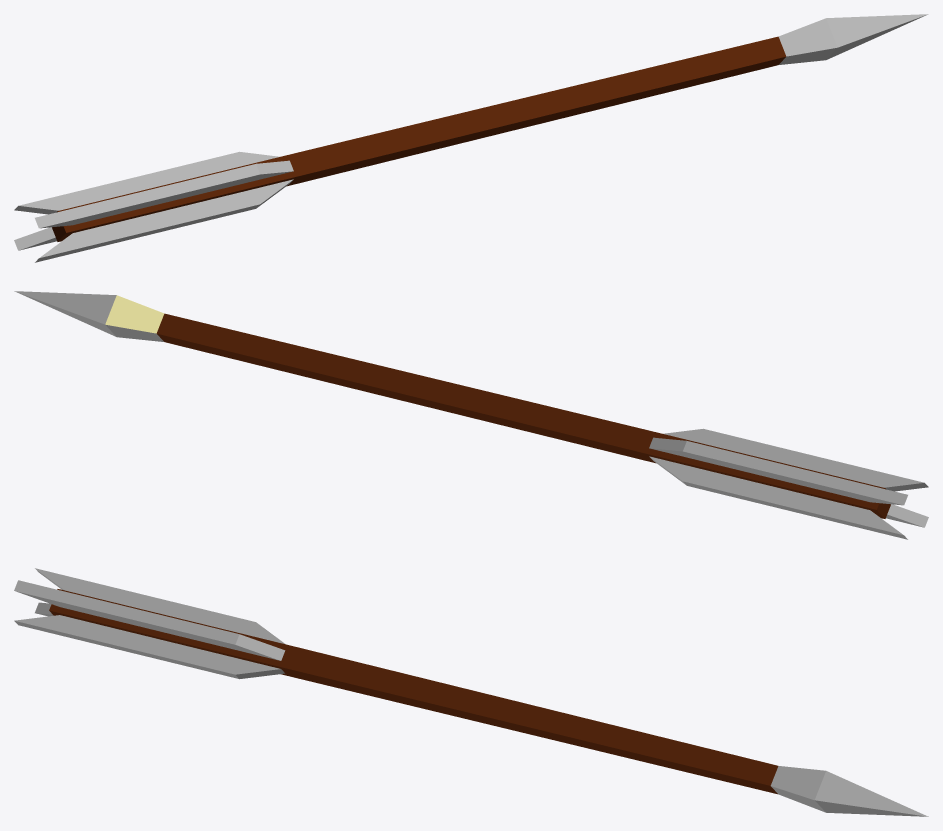
File: arrow.fbx
3 views of the same model, one above another, from view 1: azimuth 30°, elevation 25°; view 2: azimuth 150°, elevation 25°; view 3: azimuth 330°, elevation 25° (orthographic).
Parts seen in each view (by area): view 1: arrow; view 2: arrow; view 3: arrow.
Part boxes in pixels (left/top/right/bottom): arrow: left=14, top=14, right=928, bottom=262; arrow: left=14, top=291, right=928, bottom=539; arrow: left=14, top=568, right=928, bottom=816.
Bounding box in the file's own units: 3299 × 157 × 157.
